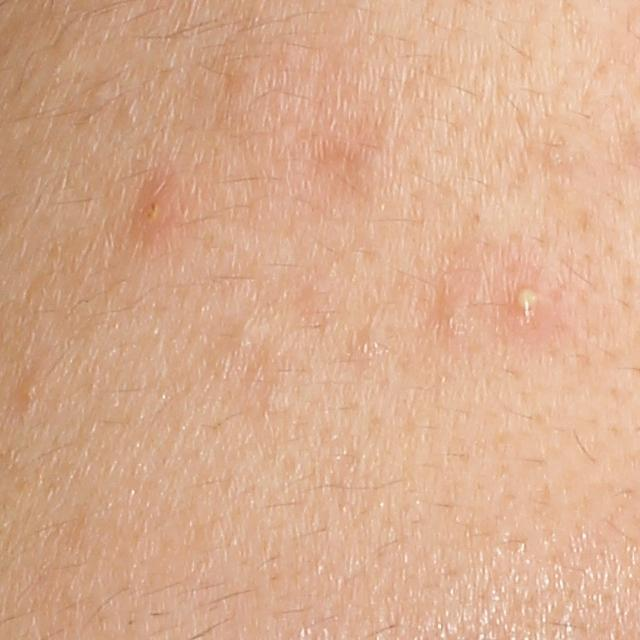comedo: (87, 81, 113, 105), (23, 377, 40, 400)
pustule: (510, 284, 548, 319)
